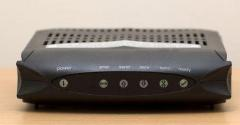electronic: (16, 27, 232, 109)
